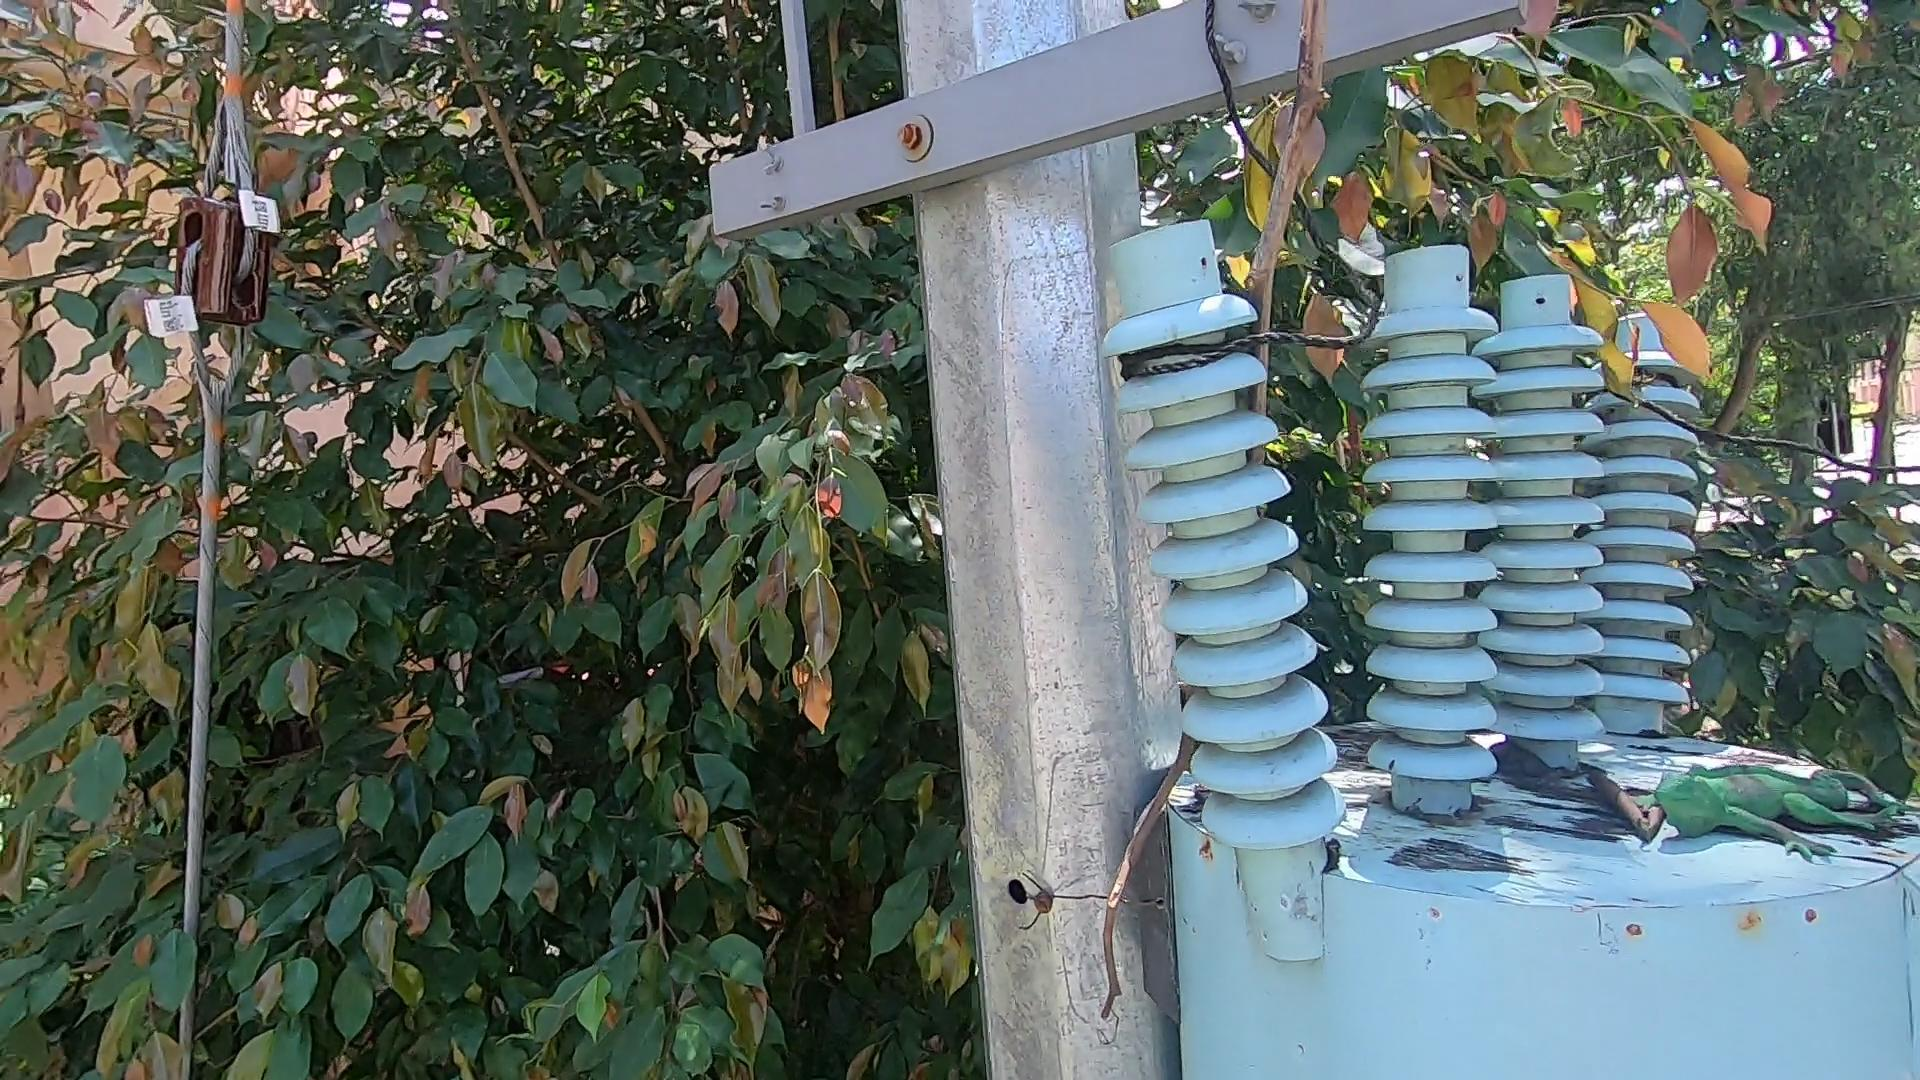branch with leaves: (1561, 264, 1724, 429)
leaf: (1582, 760, 1663, 844), (1491, 738, 1569, 793)
tree branch: (1088, 5, 1329, 1021)
